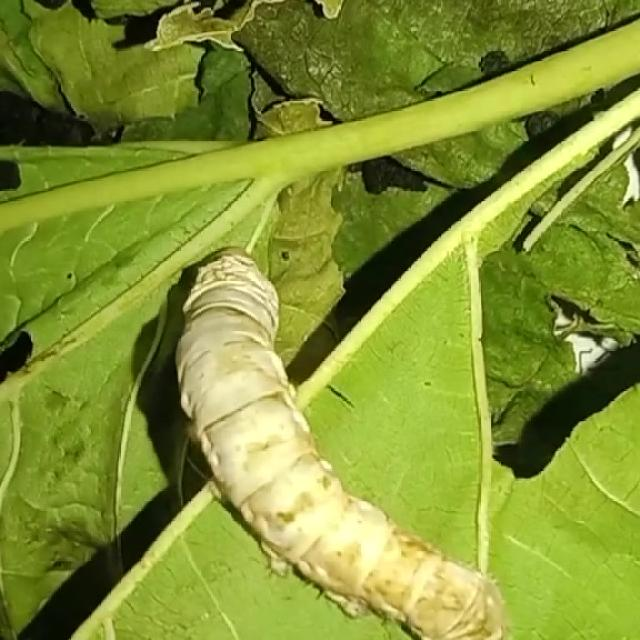Grasserie: (148, 225, 495, 638)
